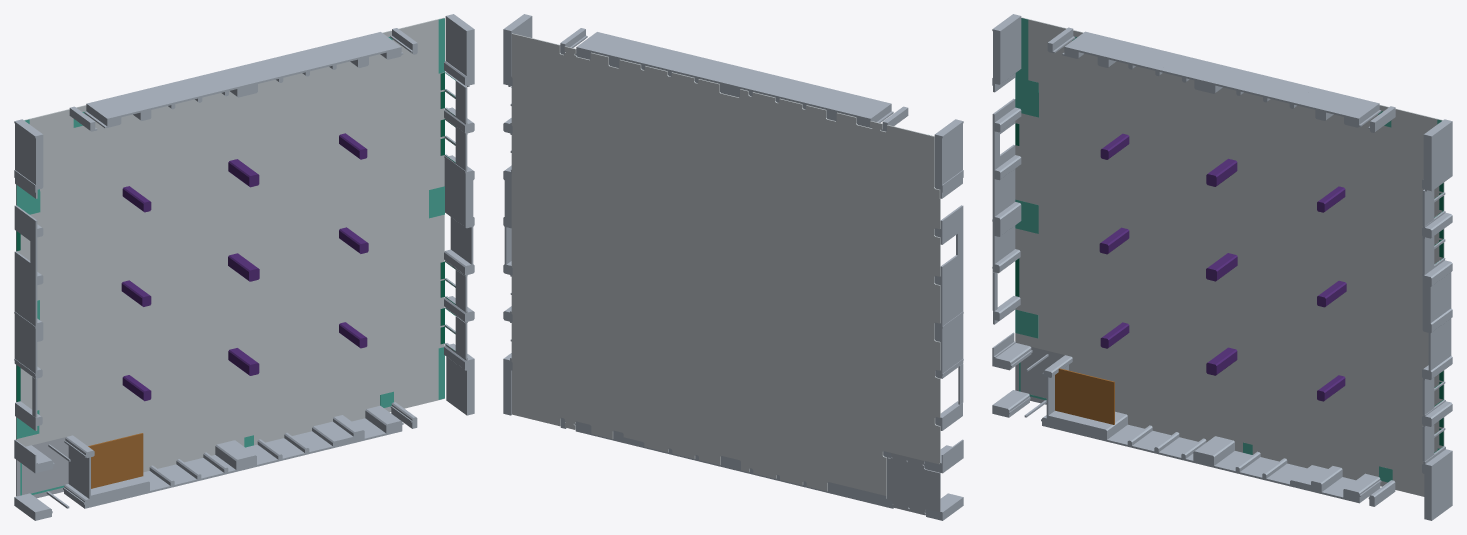
Rendered from JRRF_PDF_venue.obj.
3 views of the same model, side by side, from view 1: azimuth 30°, elevation 25°; view 2: azimuth 150°, elevation 25°; view 3: azimuth 330°, elevation 25° (orthographic).
Parts seen in each view (by area): view 1: Main_hall_01, PDF_wall_11, PDF_wall_10, PDF_wall_17, PDF_wall_06, SW_lowered_ceiling, PDF_wall_18, SW_access_alcove_01, PDF_wall_02, PDF_wall_01, PDF_wall_15, PDF_wall_09 (+6 smaller); view 2: Main_hall_01, PDF_wall_10, PDF_wall_17, SW_access_alcove_01, PDF_wall_18, PDF_wall_11, PDF_wall_02, PDF_wall_06, PDF_wall_19, PDF_wall_15, PDF_wall_16, PDF_wall_01; view 3: Main_hall_01, PDF_wall_11, PDF_wall_10, PDF_wall_17, PDF_wall_06, SW_lowered_ceiling, PDF_wall_18, PDF_wall_02, PDF_wall_01, SW_access_alcove_01, Keep_clear_06, PDF_wall_15 (+8 smaller).
Part boxes in pixels (<box>): Main_hall_01: <box>16,17,444,472</box>; PDF_wall_11: <box>63,415,386,508</box>; PDF_wall_10: <box>84,32,403,128</box>; PDF_wall_17: <box>14,251,43,378</box>; PDF_wall_06: <box>444,155,474,264</box>; SW_lowered_ceiling: <box>88,433,143,488</box>; PDF_wall_18: <box>14,119,43,198</box>; SW_access_alcove_01: <box>16,437,68,498</box>; PDF_wall_02: <box>444,14,474,86</box>; PDF_wall_01: <box>444,343,474,415</box>; PDF_wall_15: <box>14,439,54,473</box>; PDF_wall_09: <box>365,405,403,435</box>; Main_hall_01: <box>511,33,940,498</box>; PDF_wall_10: <box>574,32,893,127</box>; PDF_wall_17: <box>934,252,963,378</box>; SW_access_alcove_01: <box>888,452,940,515</box>; PDF_wall_18: <box>934,119,963,198</box>; PDF_wall_11: <box>591,430,893,508</box>; PDF_wall_02: <box>503,14,532,86</box>; PDF_wall_06: <box>503,165,511,264</box>; PDF_wall_19: <box>934,205,963,244</box>; PDF_wall_15: <box>923,439,963,473</box>; PDF_wall_16: <box>925,493,963,520</box>; PDF_wall_01: <box>503,353,512,415</box>; Main_hall_01: <box>1015,17,1444,496</box>; PDF_wall_11: <box>1041,355,1355,499</box>; PDF_wall_10: <box>1062,31,1381,127</box>; PDF_wall_17: <box>992,144,1021,273</box>; PDF_wall_06: <box>1422,259,1452,370</box>; SW_lowered_ceiling: <box>1055,368,1114,424</box>; PDF_wall_18: <box>992,14,1021,92</box>; PDF_wall_02: <box>1422,119,1452,191</box>; PDF_wall_01: <box>1422,446,1452,520</box>; SW_access_alcove_01: <box>1015,347,1064,404</box>; Keep_clear_06: <box>1015,18,1039,117</box>; PDF_wall_15: <box>992,332,1032,370</box>.
Size of the model in its own units: 48.77 by 40.78 by 4.12.
